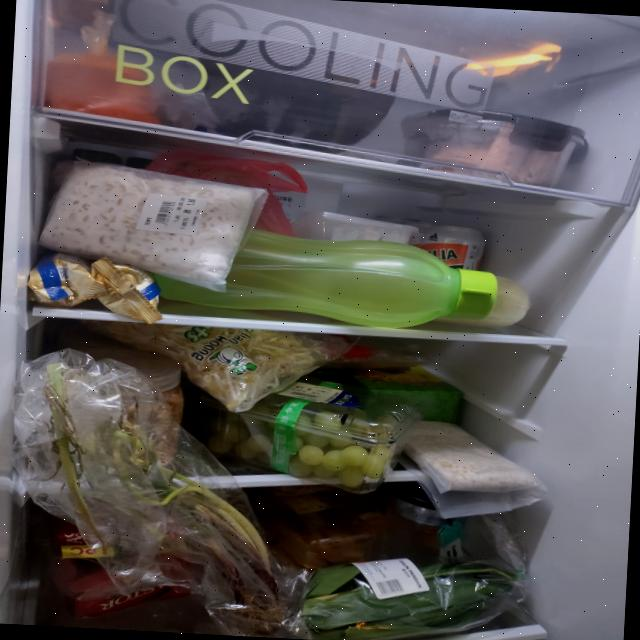bean_sprouts: (79, 320, 333, 414)
grape: (206, 390, 397, 490)
leafy_greens: (295, 551, 520, 640)
spring_onion: (32, 364, 290, 638)
tempeh: (36, 158, 256, 286), (399, 417, 542, 496)
